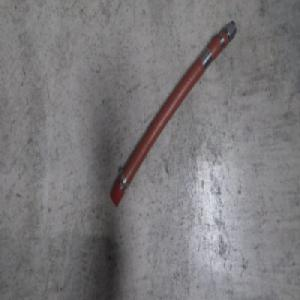Hose: (107, 16, 238, 210)
